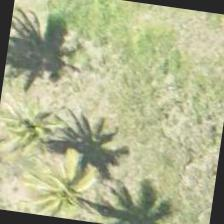Kelapa_Sawit: (21, 122, 124, 223), (0, 89, 80, 190)
